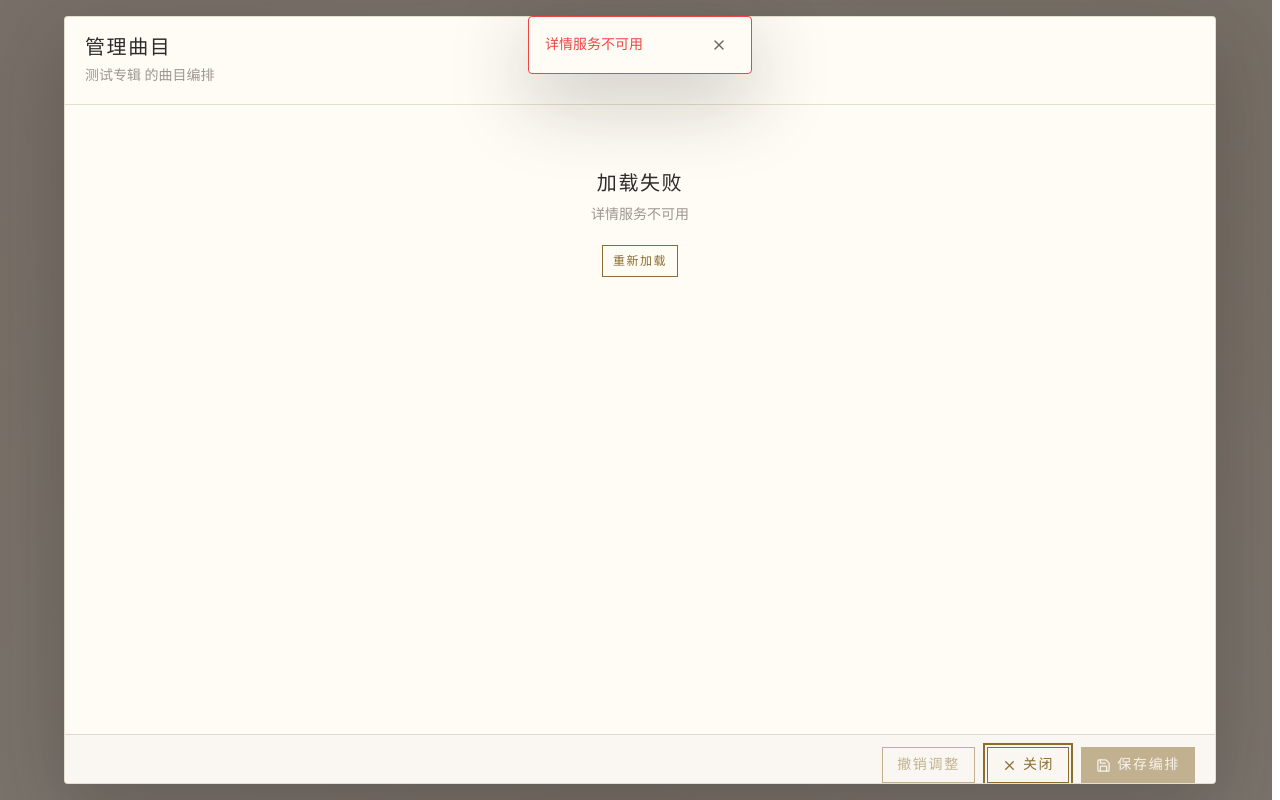
AlbumTrackEditor › 详情加载失败时显示错误和重试入口
The image size is (1280, 800).
Check: the message shows "详情服务不可用", box [591,207,689,222]
Click the button "重新加载" at (640, 261), box [602,245,678,277]
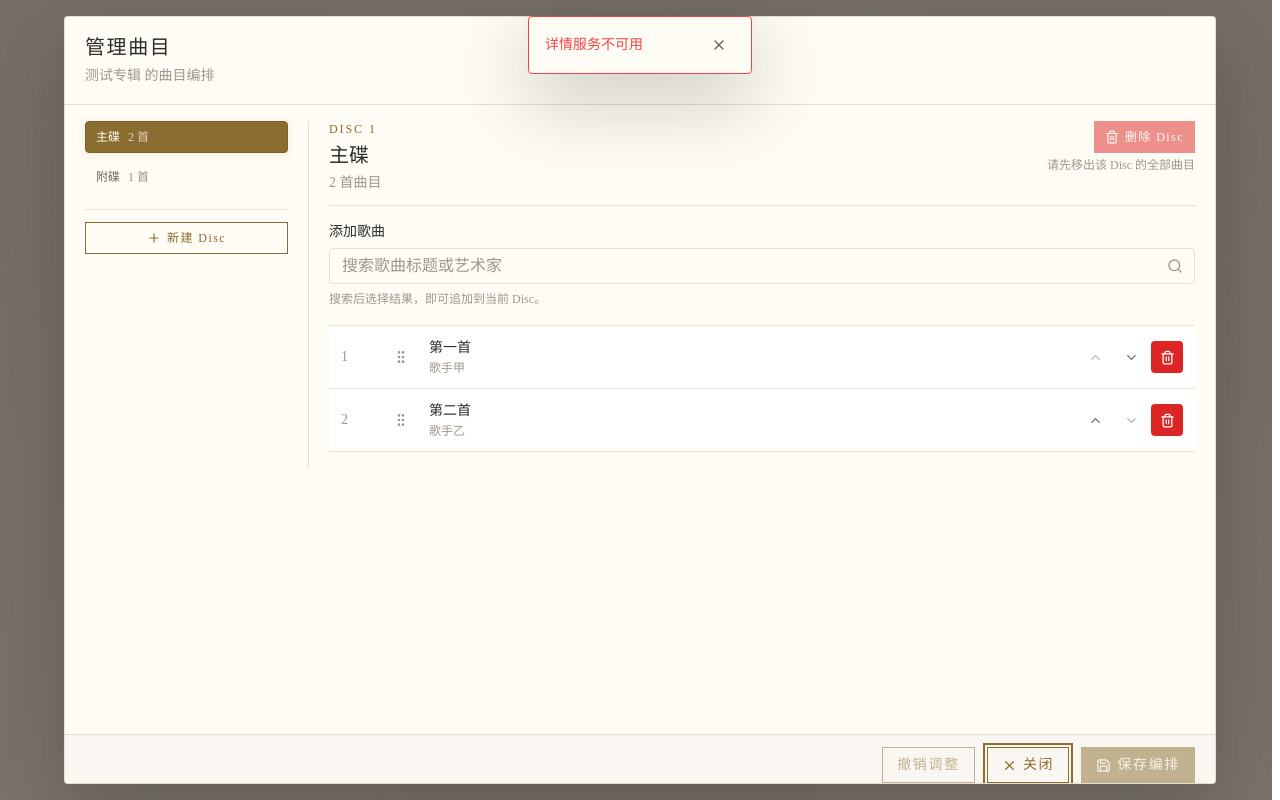
Check: the text "附碟" is shown, box [96,167,120,187]
